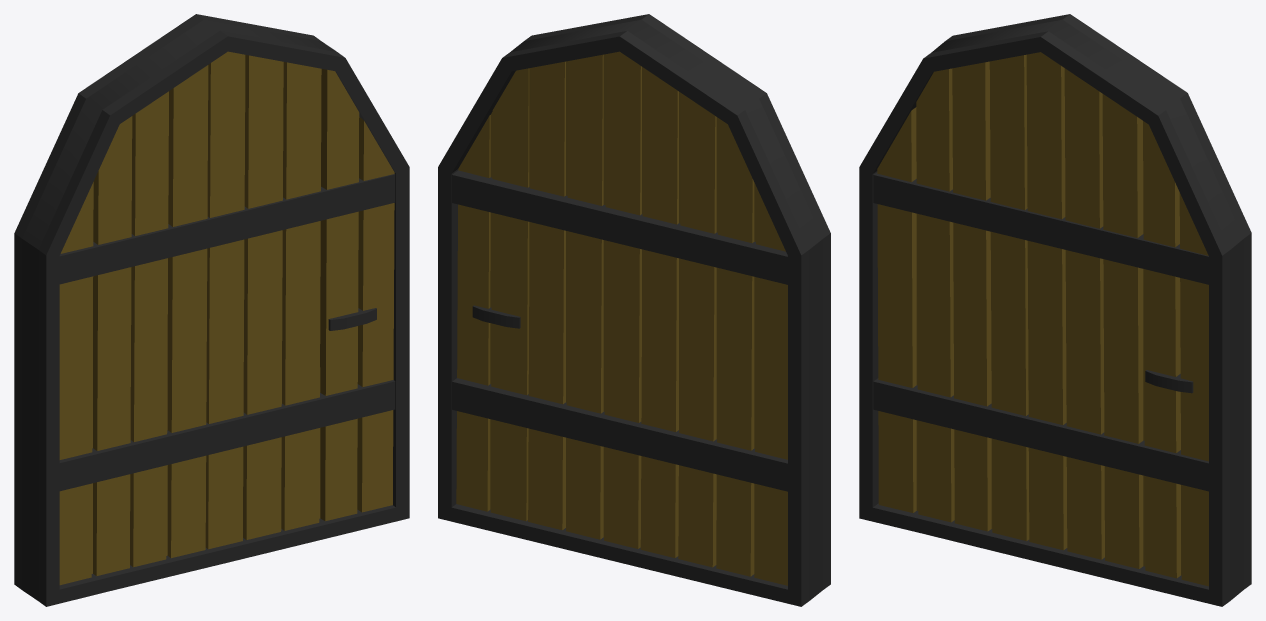
File: doors_wood.fbx
3 renders of one model, left to right at view 1: azimuth 30°, elevation 25°; view 2: azimuth 150°, elevation 25°; view 3: azimuth 330°, elevation 25°, orthographic.
Visible parts, largest first — view 1: pref_doors; view 2: pref_doors; view 3: pref_doors.
Part boxes in pixels (bbox=[...]): pref_doors: bbox=[14, 14, 409, 606]; pref_doors: bbox=[438, 14, 830, 606]; pref_doors: bbox=[859, 14, 1251, 606].
Size of the model in its own units: 136 by 187 by 20.1.
